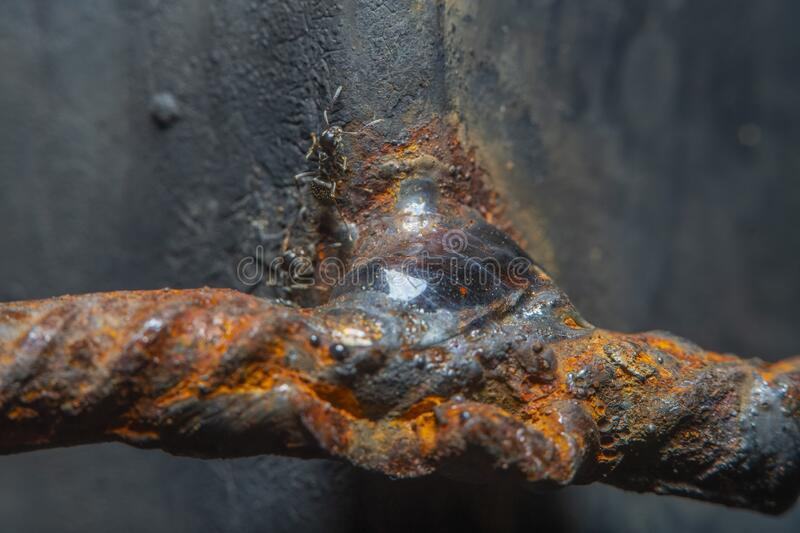rust: (120, 292, 292, 407), (336, 138, 500, 206), (562, 343, 680, 409)
